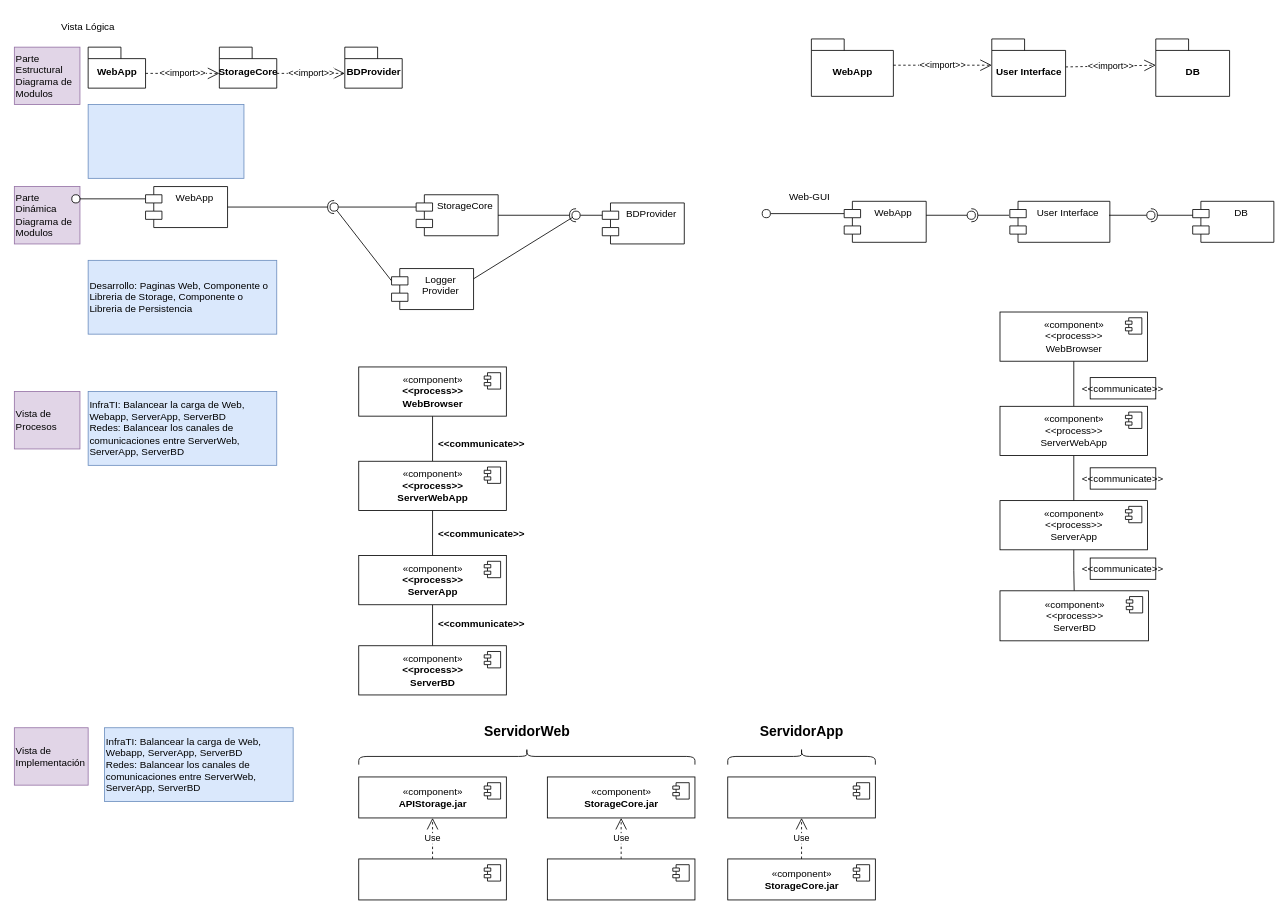
Some shapes in this 1288 by 914 pixel diagram are drawn without their labels. Each missing label, with the centre of its shape:
"InfraTI: 3 tipos de Sistemas o Servidores Desarrollo: WebApp" goes at (165,141).
"«component» APIStorage.war" goes at (621,879).
"«component» BDProvider.jar" goes at (801,797).
"«component» webapp.war" goes at (432,879).
